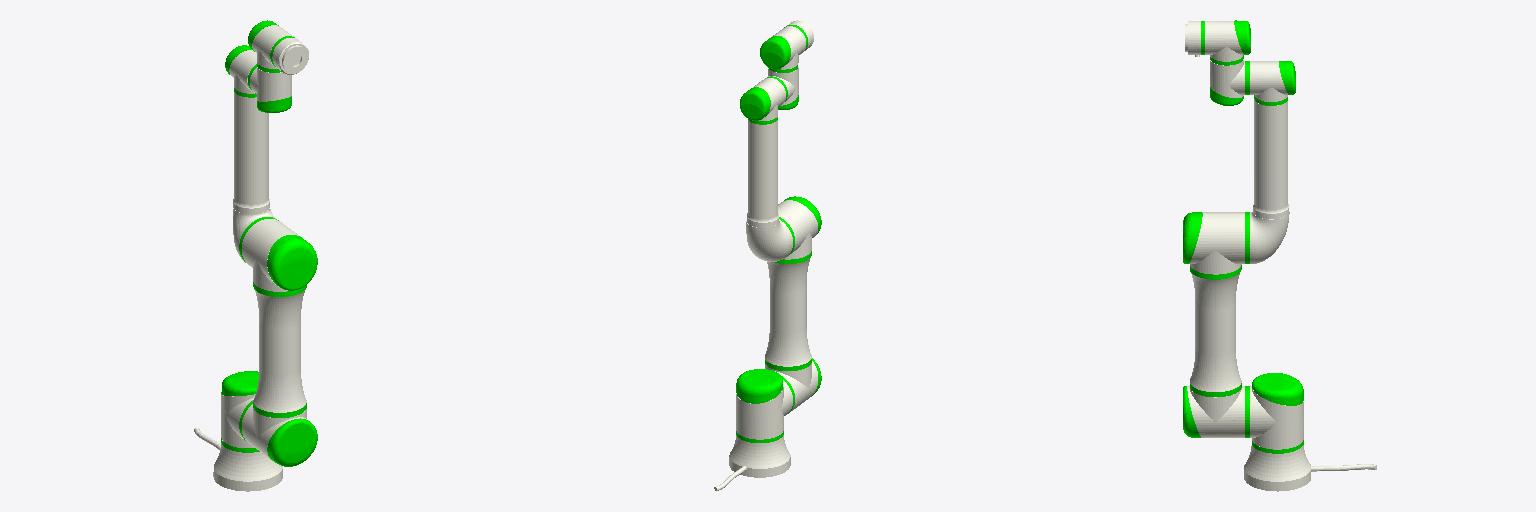
The robot description file, URDF, robot "C6":
<?xml version="1.0" ?>
<robot name="C6">
    <link name="C6_base">
        <visual>
            <geometry>
                <mesh filename="package://cgx_description/meshes/visual/base.dae" />
            </geometry>
        </visual>
        <collision>
            <geometry>
                <mesh filename="package://cgx_description/meshes/collision/base.stl" />
            </geometry>
        </collision>
        <inertial>
            <mass value="122" />
            <origin xyz="0 0 0" rpy="0 0 0" />
            <inertia ixx="0.01" ixy="0" ixz="0" iyy="0.01" iyz="0" izz="0.01" />
        </inertial>
    </link>
    <link name="C6_link1">
        <visual>
            <geometry>
                <mesh filename="package://cgx_description/meshes/visual/link1.dae" />
            </geometry>
        </visual>
        <collision>
            <geometry>
                <mesh filename="package://cgx_description/meshes/collision/link1.stl" />
            </geometry>
        </collision>
        <inertial>
            <mass value="18" />
            <origin xyz="0 0 0" rpy="0 0 0" />
            <inertia ixx="0.01" ixy="0" ixz="0" iyy="0.01" iyz="0" izz="0.01" />
        </inertial>
    </link>
    <joint name="C6_joint1" type="revolute">
        <origin xyz="0 0 0.1607" rpy="0 0 0" />
        <parent link="C6_base" />
        <child link="C6_link1" />
        <axis xyz="0 0 1" />
        <limit effort="87" lower="-6.2832" upper="6.2832" velocity="3.6652" />
        <hardwareInterface>hardware_interface/PositionJointInterface</hardwareInterface>
    </joint>
    <link name="C6_link2">
        <visual>
            <geometry>
                <mesh filename="package://cgx_description/meshes/visual/link2.dae" />
            </geometry>
        </visual>
        <collision>
            <geometry>
                <mesh filename="package://cgx_description/meshes/collision/link2.stl" />
            </geometry>
        </collision>
        <inertial>
            <mass value="14" />
            <origin xyz="-0.1448 0 -0.2" rpy="0 0 0" />
            <inertia ixx="0.01" ixy="0" ixz="0" iyy="0.01" iyz="0" izz="0.01" />
        </inertial>
    </link>
    <joint name="C6_joint2" type="revolute">
        <origin xyz="0 0 0" rpy="1.57079632679 -1.57079632679 0" />
        <parent link="C6_link1" />
        <child link="C6_link2" />
        <axis xyz="0 0 1" />
        <limit effort="87" lower="-6.2832" upper="6.2832" velocity="3.6652" />
        <hardwareInterface>hardware_interface/PositionJointInterface</hardwareInterface>
    </joint>
    <link name="C6_link3">
        <visual>
            <geometry>
                <mesh filename="package://cgx_description/meshes/visual/link3.dae" />
            </geometry>
        </visual>
        <collision>
            <geometry>
                <mesh filename="package://cgx_description/meshes/collision/link3.stl" />
            </geometry>
        </collision>
        <inertial>
            <mass value="2.5" />
            <origin xyz="-0.1 0 -0.1" rpy="0 0 0" />
            <inertia ixx="0.01" ixy="0" ixz="0" iyy="0.01" iyz="0" izz="0.01" />
        </inertial>
    </link>
    <joint name="C6_joint3" type="revolute">
        <origin xyz="0.425 0 0" rpy="0 0 0" />
        <parent link="C6_link2" />
        <child link="C6_link3" />
        <axis xyz="0 0 1" />
        <limit effort="87" lower="-2.8798" upper="2.8798" velocity="3.6652" />
        <hardwareInterface>hardware_interface/PositionJointInterface</hardwareInterface>
    </joint>
    <link name="C6_link4">
        <visual>
            <geometry>
                <mesh filename="package://cgx_description/meshes/visual/link4.dae" />
            </geometry>
        </visual>
        <collision>
            <geometry>
                <mesh filename="package://cgx_description/meshes/collision/link4.stl" />
            </geometry>
        </collision>
        <inertial>
            <mass value="0.51" />
            <origin xyz="0 0 0" rpy="0 0 0" />
            <inertia ixx="0.01" ixy="0" ixz="0" iyy="0.01" iyz="0" izz="0.01" />
        </inertial>
    </link>
    <joint name="C6_joint4" type="revolute">
        <origin xyz="0.393 0 0.1133" rpy="0 0 -1.57079632679" />
        <parent link="C6_link3" />
        <child link="C6_link4" />
        <axis xyz="0 0 1" />
        <limit effort="87" lower="-6.2832" upper="6.2832" velocity="6.2832" />
        <hardwareInterface>hardware_interface/PositionJointInterface</hardwareInterface>
    </joint>
    <link name="C6_link5">
        <visual>
            <geometry>
                <mesh filename="package://cgx_description/meshes/visual/link5.dae" />
            </geometry>
        </visual>
        <collision>
            <geometry>
                <mesh filename="package://cgx_description/meshes/collision/link5.stl" />
            </geometry>
        </collision>
        <inertial>
            <mass value="0.01" />
            <origin xyz="0 0 -0.1" rpy="0 0 0" />
            <inertia ixx="0.01" ixy="0" ixz="0" iyy="0.01" iyz="0" izz="0.01" />
        </inertial>
    </link>
    <joint name="C6_joint5" type="revolute">
        <origin xyz="0 0.099 0" rpy="-1.57079632679 0 0 " />
        <parent link="C6_link4" />
        <child link="C6_link5" />
        <axis xyz="0 0 1" />
        <limit effort="87" lower="-6.2832" upper="6.2832" velocity="6.2832" />
        <hardwareInterface>hardware_interface/PositionJointInterface</hardwareInterface>
    </joint>
    <link name="C6_link6">
        <visual>
            <geometry>
                <mesh filename="package://cgx_description/meshes/visual/link6.dae" />
            </geometry>
        </visual>
        <collision>
            <geometry>
                <mesh filename="package://cgx_description/meshes/collision/link6.stl" />
            </geometry>
        </collision>
        <inertial>
            <mass value="0.001" />
            <origin xyz="-0.08 0 0" rpy="0 0 0" />
            <inertia ixx="0.01" ixy="0" ixz="0" iyy="0.01" iyz="0" izz="0.01" />
        </inertial>
    </link>
    <joint name="C6_joint6" type="revolute">
        <origin xyz="0 -0.0936 0" rpy="1.57079632679 0 0 " />
        <parent link="C6_link5" />
        <child link="C6_link6" />
        <axis xyz="0 0 1" />
        <limit effort="87" lower="-6.2832" upper="6.2832" velocity="6.2832" />
        <hardwareInterface>hardware_interface/PositionJointInterface</hardwareInterface>
    </joint>
    <!-- <gazebo>
    <plugin name="gazebo_ros2_control" filename="libgazebo_ros2_control.so">
      <parameters>[local-path]/cgx_ws/src/cgx_description/config/g6_controllers.yaml</parameters>
      <plugin_config>gazebo_hardware_plugins.xml</plugin_config>
    </plugin>
  </gazebo> -->
    <transmission name="trans_C6_joint1">
        <type>transmission_interface/SimpleTransmission</type>
        <joint name="C6_joint1">
            <hardwareInterface>hardware_interface/PositionJointInterface</hardwareInterface>
        </joint>
        <actuator name="C6_joint1_motor">
            <hardwareInterface>hardware_interface/PositionJointInterface</hardwareInterface>
            <mechanicalReduction>1</mechanicalReduction>
        </actuator>
    </transmission>
    <transmission name="trans_C6_joint2">
        <type>transmission_interface/SimpleTransmission</type>
        <joint name="C6_joint2">
            <hardwareInterface>hardware_interface/PositionJointInterface</hardwareInterface>
        </joint>
        <actuator name="C6_joint2_motor">
            <hardwareInterface>hardware_interface/PositionJointInterface</hardwareInterface>
            <mechanicalReduction>1</mechanicalReduction>
        </actuator>
    </transmission>
    <transmission name="trans_C6_joint3">
        <type>transmission_interface/SimpleTransmission</type>
        <joint name="C6_joint3">
            <hardwareInterface>hardware_interface/PositionJointInterface</hardwareInterface>
        </joint>
        <actuator name="C6_joint3_motor">
            <hardwareInterface>hardware_interface/PositionJointInterface</hardwareInterface>
            <mechanicalReduction>1</mechanicalReduction>
        </actuator>
    </transmission>
    <transmission name="trans_C6_joint4">
        <type>transmission_interface/SimpleTransmission</type>
        <joint name="C6_joint4">
            <hardwareInterface>hardware_interface/PositionJointInterface</hardwareInterface>
        </joint>
        <actuator name="C6_joint4_motor">
            <hardwareInterface>hardware_interface/PositionJointInterface</hardwareInterface>
            <mechanicalReduction>1</mechanicalReduction>
        </actuator>
    </transmission>
    <transmission name="trans_C6_joint5">
        <type>transmission_interface/SimpleTransmission</type>
        <joint name="C6_joint5">
            <hardwareInterface>hardware_interface/PositionJointInterface</hardwareInterface>
        </joint>
        <actuator name="C6_joint5_motor">
            <hardwareInterface>hardware_interface/PositionJointInterface</hardwareInterface>
            <mechanicalReduction>1</mechanicalReduction>
        </actuator>
    </transmission>
    <transmission name="trans_C6_joint6">
        <type>transmission_interface/SimpleTransmission</type>
        <joint name="C6_joint6">
            <hardwareInterface>hardware_interface/PositionJointInterface</hardwareInterface>
        </joint>
        <actuator name="C6_joint6_motor">
            <hardwareInterface>hardware_interface/PositionJointInterface</hardwareInterface>
            <mechanicalReduction>1</mechanicalReduction>
        </actuator>
    </transmission>
    <gazebo>
        <plugin name="gazebo_ros_control" filename="libgazebo_ros_control.so">
            <robotNamespace>/</robotNamespace>
        </plugin>
    </gazebo>
</robot>

--- What the picture shows (computed from the rendered views, not written in the file) ---
3 views of the same robot in one strip: view 1: azimuth 30°, elevation 25°; view 2: azimuth 150°, elevation 25°; view 3: azimuth 270°, elevation 25° (orthographic).
Robot: C6 — 7 links, 6 joints (6 revolute); root link C6_base; default pose: every joint at zero.
Visible links, largest first — view 1: C6_link2, C6_link3, C6_base, C6_link1, C6_link4, C6_link5, C6_link6; view 2: C6_link2, C6_link3, C6_link1, C6_base, C6_link5, C6_link4; view 3: C6_link2, C6_link3, C6_link1, C6_base, C6_link5, C6_link4, C6_link6.
Boxes of the visible links, x1=… form: C6_link2: x1=242, y1=219, x2=317, y2=466; C6_link3: x1=225, y1=45, x2=278, y2=262; C6_base: x1=194, y1=428, x2=282, y2=491; C6_link1: x1=221, y1=371, x2=258, y2=447; C6_link4: x1=248, y1=64, x2=291, y2=112; C6_link5: x1=248, y1=20, x2=293, y2=72; C6_link6: x1=270, y1=36, x2=308, y2=74; C6_link2: x1=765, y1=196, x2=821, y2=410; C6_link3: x1=740, y1=78, x2=794, y2=261; C6_link1: x1=736, y1=369, x2=794, y2=439; C6_base: x1=714, y1=431, x2=790, y2=490; C6_link5: x1=760, y1=26, x2=805, y2=72; C6_link4: x1=767, y1=66, x2=798, y2=109; C6_link2: x1=1183, y1=212, x2=1244, y2=437; C6_link3: x1=1245, y1=61, x2=1295, y2=263; C6_link1: x1=1245, y1=373, x2=1303, y2=449; C6_base: x1=1244, y1=440, x2=1376, y2=491; C6_link5: x1=1205, y1=20, x2=1250, y2=65; C6_link4: x1=1210, y1=59, x2=1249, y2=105; C6_link6: x1=1185, y1=21, x2=1204, y2=56.
Size in the robot's own frame: 0.15 by 0.4332 by 1.12 metres.
7 mesh visuals loaded from 7 distinct referenced files (7 Collada DAE).